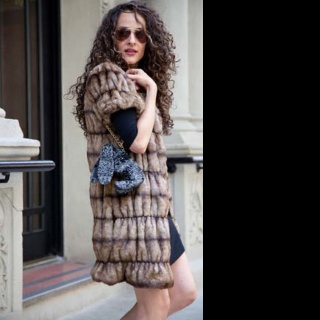without_mask: (113, 10, 147, 64)
